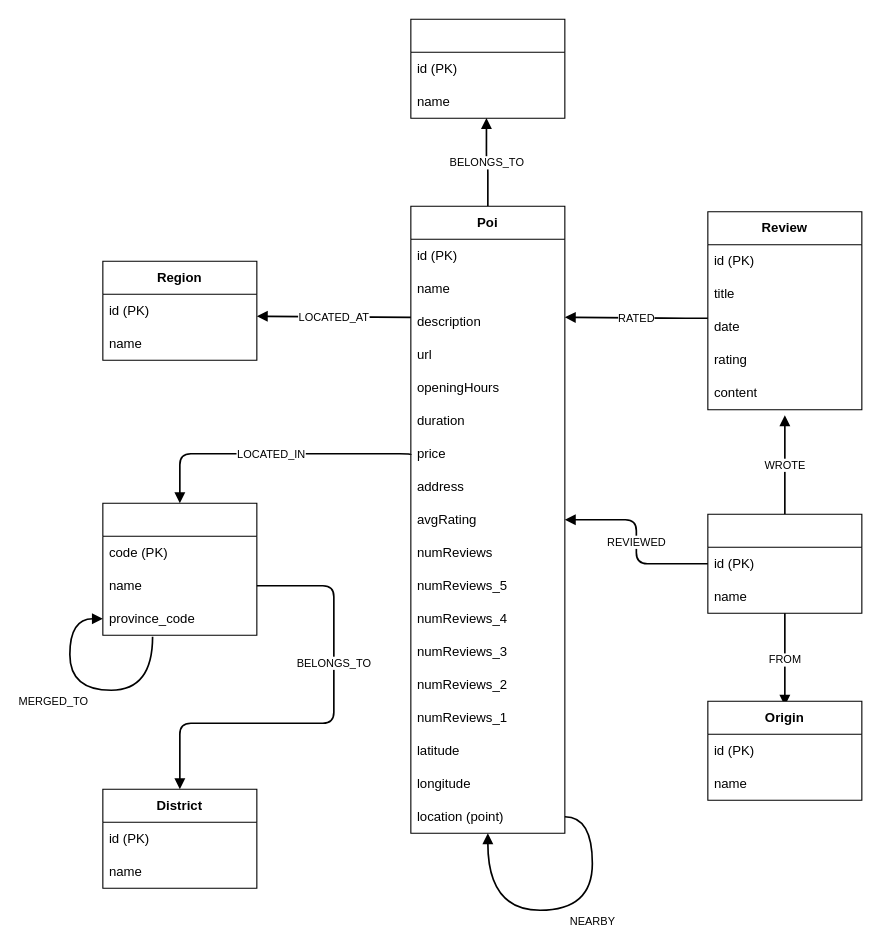
Image size: 881x947. Some labels were removed from this diagram. Here are the shapes that lost their labels. From the top down, the box of each, then its label:
(410, 18, 565, 118): Category
(102, 502, 257, 635): Ward
(707, 513, 862, 613): User
